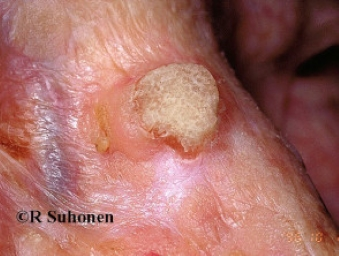seborrheic keratosis: (58, 37, 252, 175)
